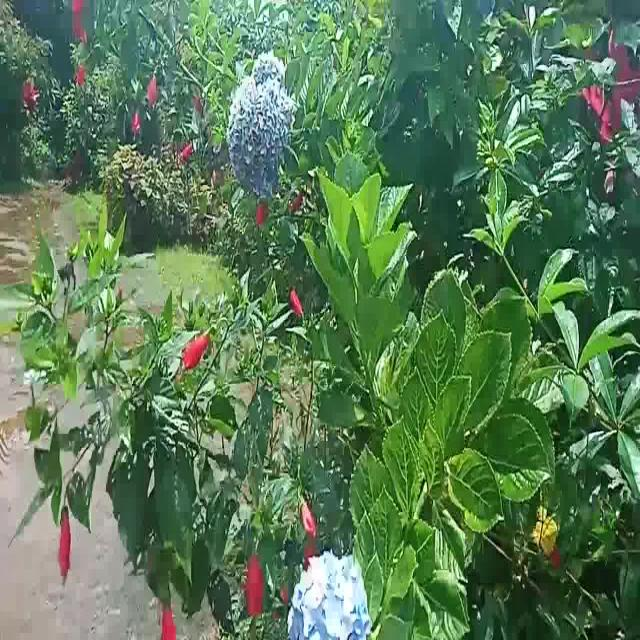Flower: (226, 62, 288, 191), (287, 550, 371, 640), (54, 496, 77, 592), (186, 311, 216, 378), (244, 548, 270, 618), (159, 601, 179, 640)
